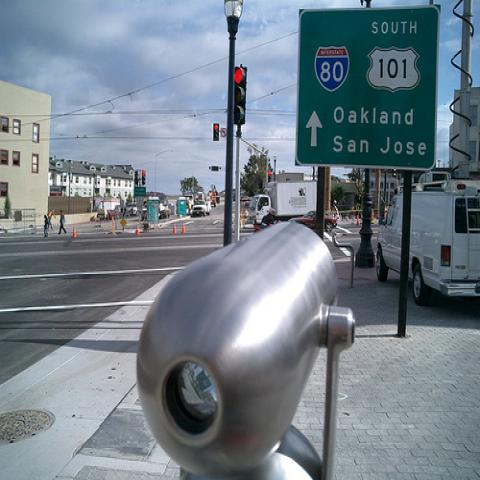car: (289, 210, 338, 232), (107, 205, 130, 221)
truck: (374, 170, 479, 306), (249, 180, 317, 227), (190, 200, 210, 217)
